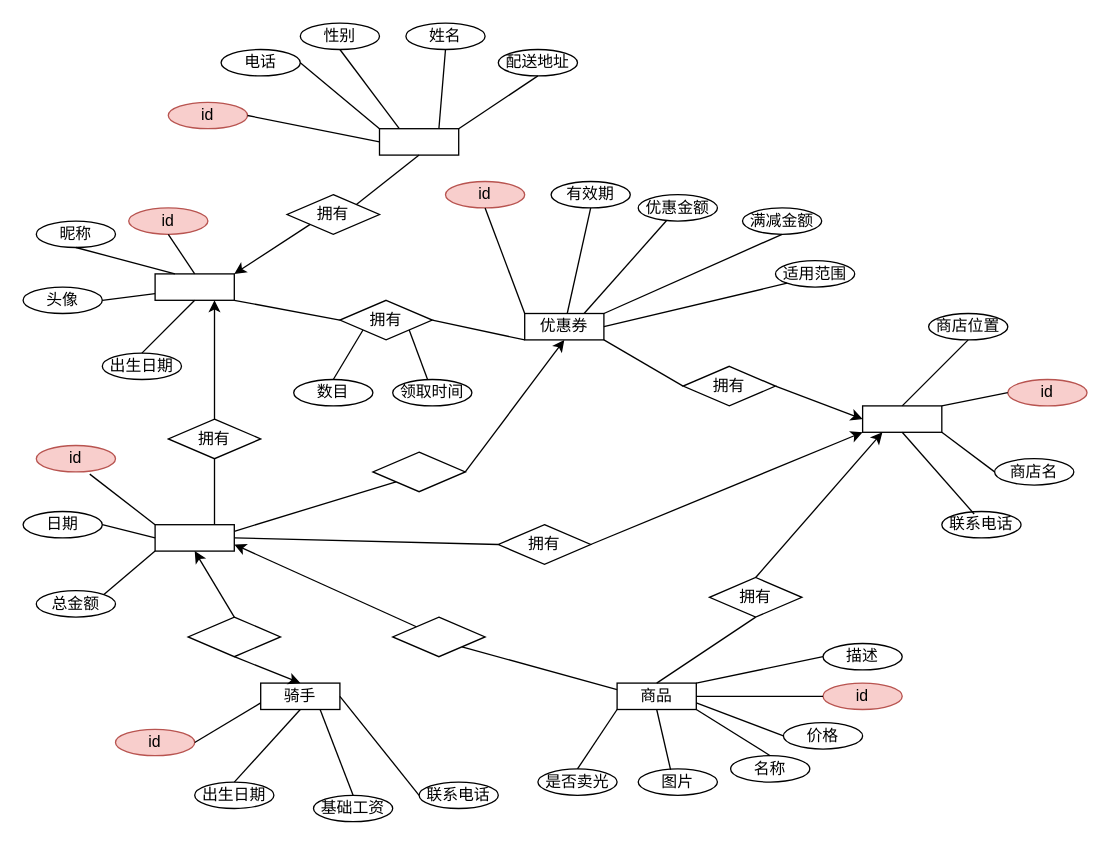
The diagram is 1110 pixels wide and 845 high, and some of its shapes have lost their labels. The shapes that lost their labels are listed below. From the top down, each one's centre as x and y in pixels, then its label:
At pixel 418 141: "收货地址".
At pixel 194 286: "用户".
At pixel 901 418: "商家".
At pixel 418 471: "使用".
At pixel 194 537: "订单".
At pixel 233 636: "配送".
At pixel 438 636: "包含".
